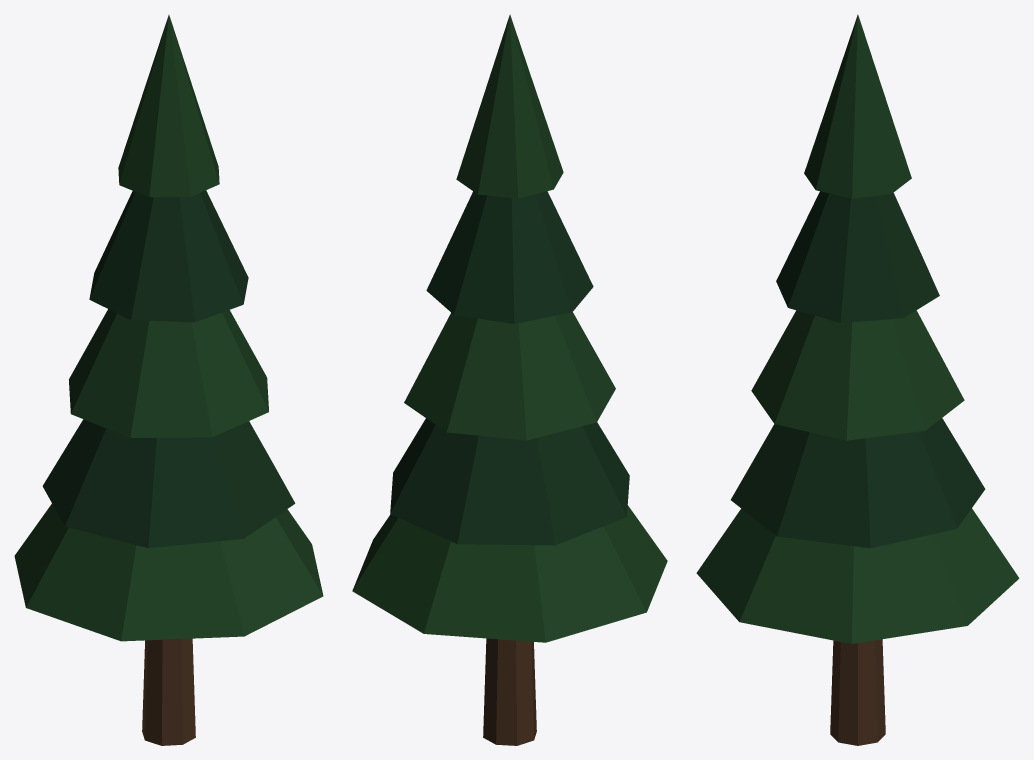
File: pine_2.obj
3 views of the same model, side by side, from view 1: azimuth 30°, elevation 25°; view 2: azimuth 150°, elevation 25°; view 3: azimuth 270°, elevation 25° (orthographic).
Parts seen in each view (by area): view 1: pine_2; view 2: pine_2; view 3: pine_2.
Boxes of the visible parts, x1,y1,x2,y2 form: pine_2: (14, 15, 323, 745); pine_2: (352, 14, 667, 745); pine_2: (696, 14, 1019, 745).
Bounding box in the file's own units: 7.58 × 18.64 × 7.58.
